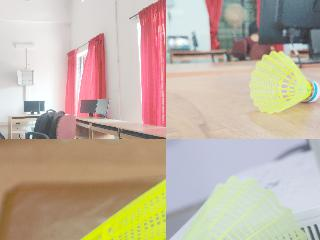shuttlecock: (12, 165, 165, 239), (166, 176, 319, 239), (248, 49, 319, 114)
